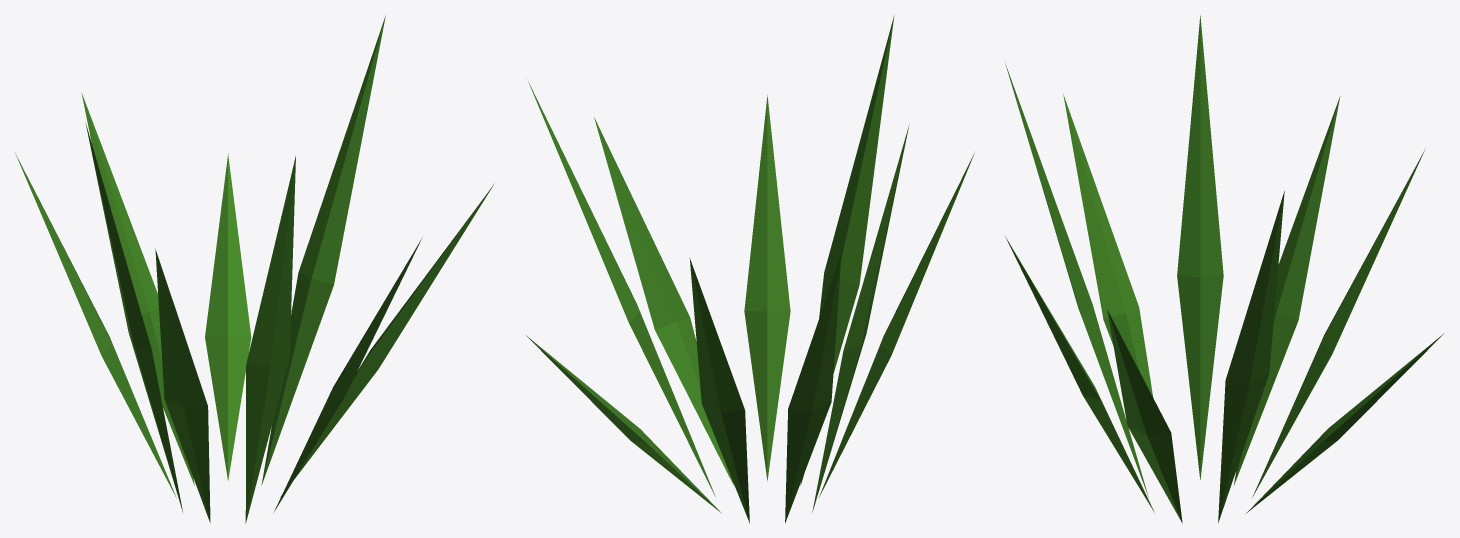
Rendered from N14_Grass_Clump.fbx.
3 renders of one model, left to right at view 1: azimuth 30°, elevation 25°; view 2: azimuth 150°, elevation 25°; view 3: azimuth 270°, elevation 25°, orthographic.
Visible parts, largest first — view 1: N14_Grass_Clump; view 2: N14_Grass_Clump; view 3: N14_Grass_Clump.
Part boxes in pixels (left/top/right/bottom): N14_Grass_Clump: left=15, top=15, right=494, bottom=523; N14_Grass_Clump: left=526, top=15, right=974, bottom=523; N14_Grass_Clump: left=1005, top=15, right=1444, bottom=523.
Bounding box in the file's own units: 0.4903 × 0.5485 × 0.5117.
Materials: 1 (1 with a texture image).
